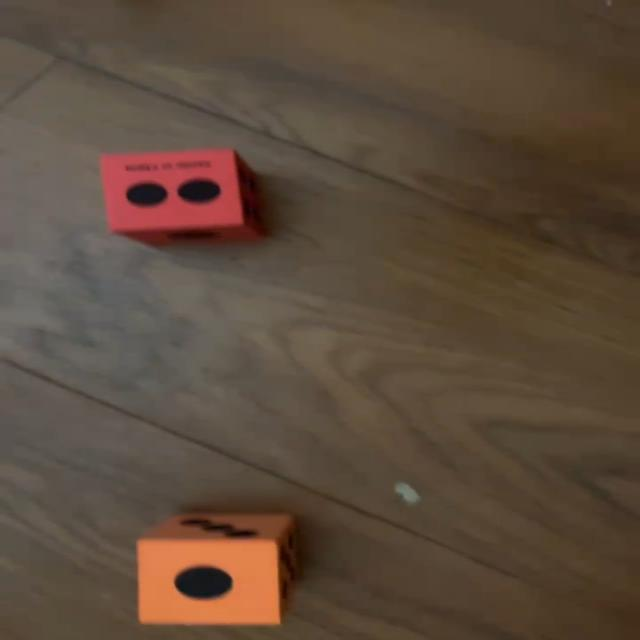red_block: (96, 150, 266, 247)
